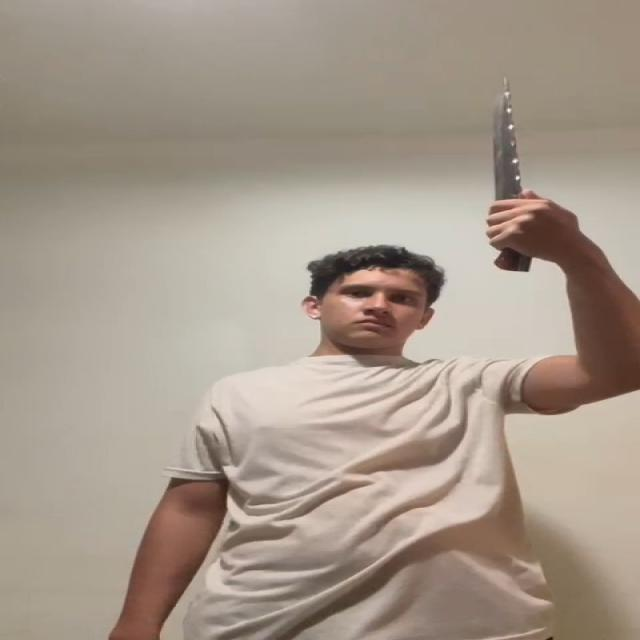knife: (492, 78, 524, 194)
